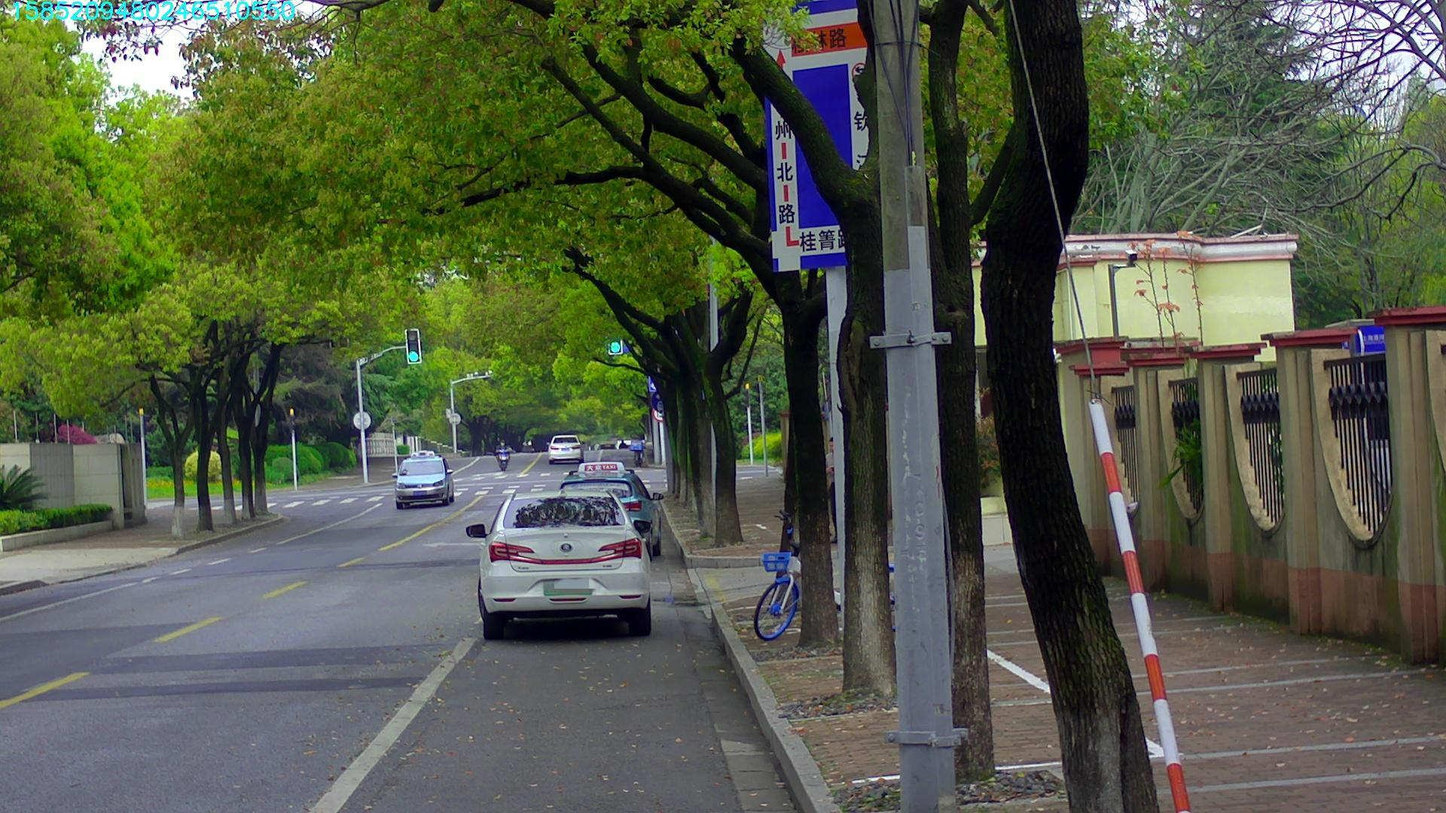green: (406, 328, 419, 362), (609, 340, 621, 353)
